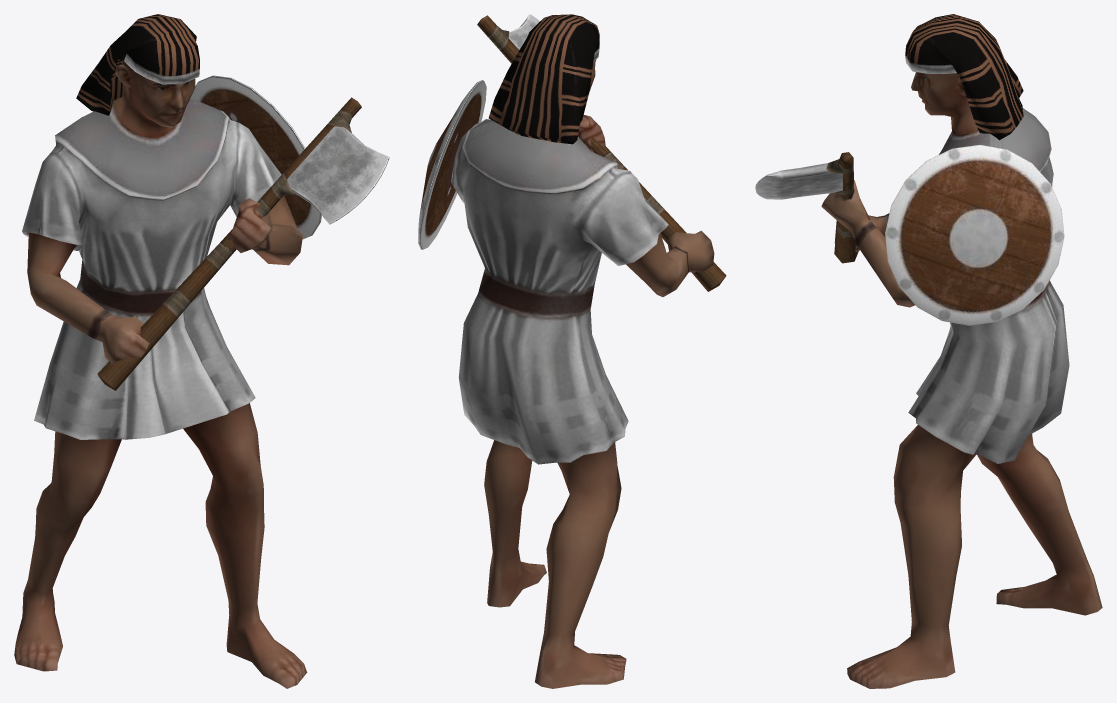
The model's file is 7-axeman.glb.
3 renders of one model, left to right at view 1: azimuth 30°, elevation 25°; view 2: azimuth 150°, elevation 25°; view 3: azimuth 270°, elevation 25°, orthographic. The views are drawn at different scales.
Size of the model in its own units: 0.874 by 1.99 by 1.01.
4 materials, 4 textured.
